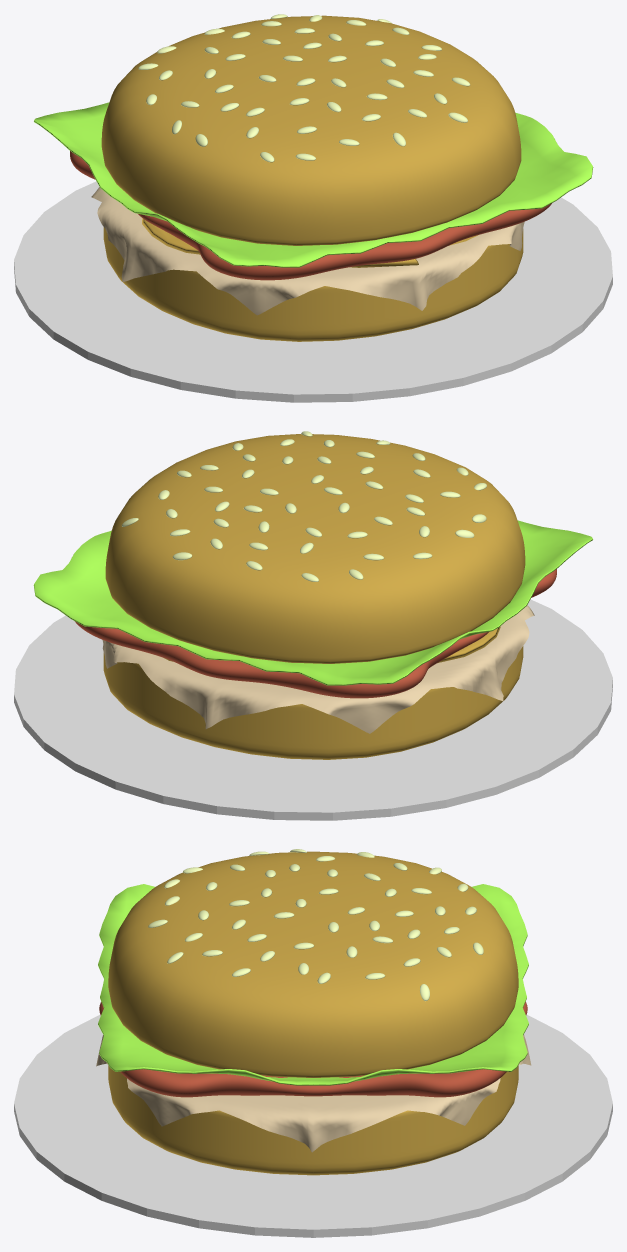
The model's file is HamburguesaCarne.glb.
3 renders of one model, top to bottom at view 1: azimuth 30°, elevation 25°; view 2: azimuth 150°, elevation 25°; view 3: azimuth 270°, elevation 25°, orthographic.
Parts seen in each view (by area): view 1: Hamburguesa, Circle; view 2: Hamburguesa, Circle; view 3: Hamburguesa, Circle.
Part boxes in pixels (x1,y1,x2,y2): Hamburguesa: [34, 14, 593, 341]; Circle: [14, 181, 612, 402]; Hamburguesa: [33, 431, 592, 759]; Circle: [14, 599, 612, 820]; Hamburguesa: [96, 849, 531, 1175]; Circle: [14, 1015, 612, 1237].
Bounding box in the file's own units: 8.57 × 3.22 × 8.57.
